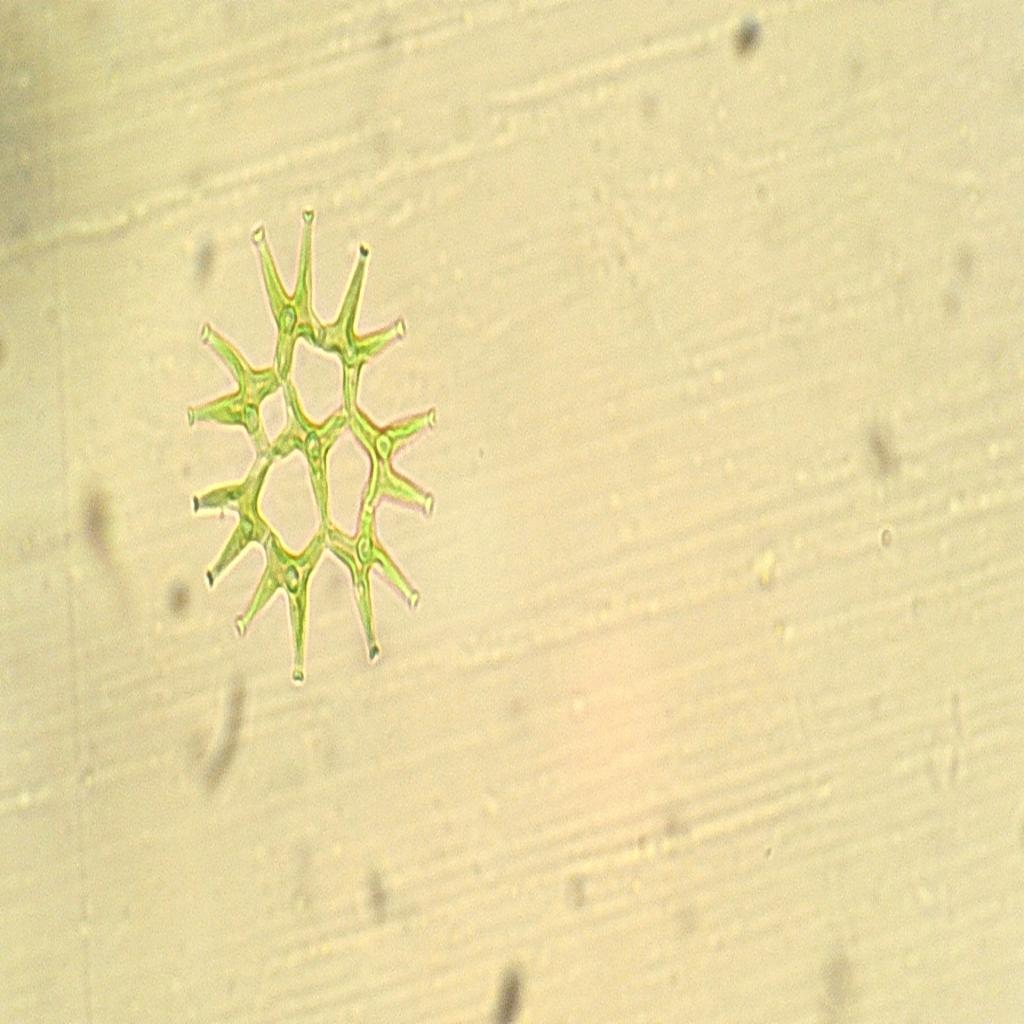Pediastrum_75T: (170, 190, 447, 710)
